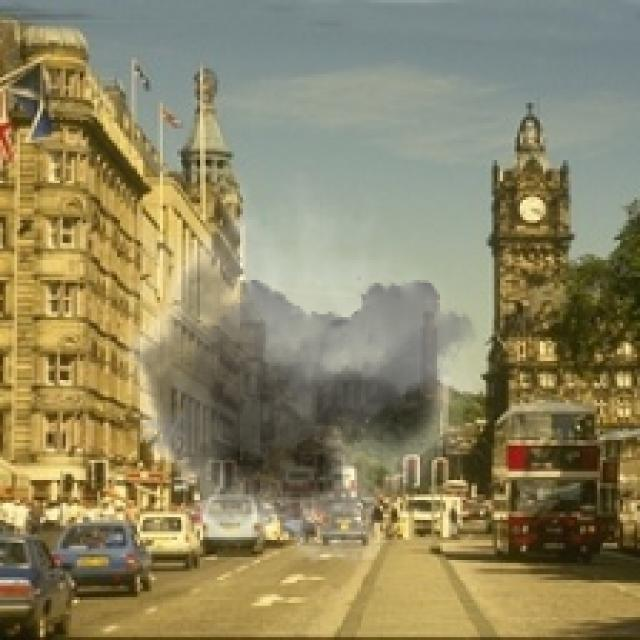Smoke: (102, 168, 478, 586)
